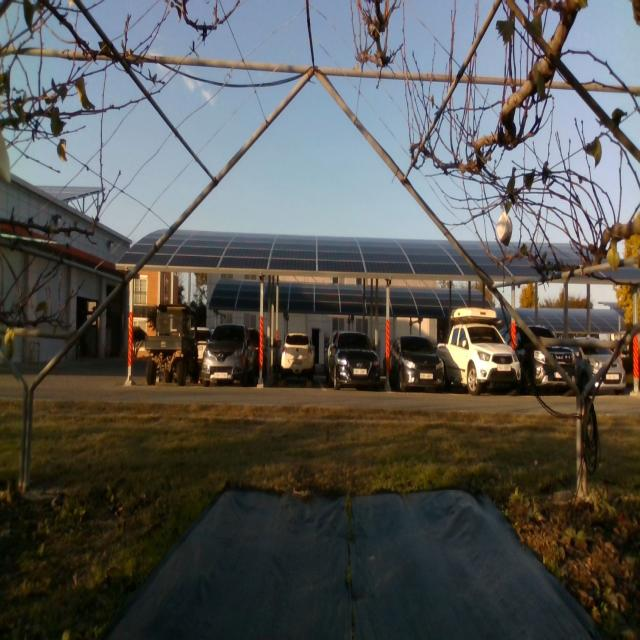pearbags: (497, 212, 513, 248)
